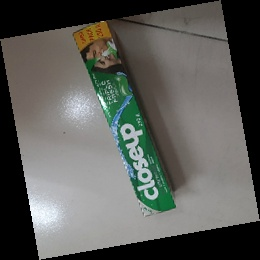CloseUp Xanh: (72, 20, 176, 218)
